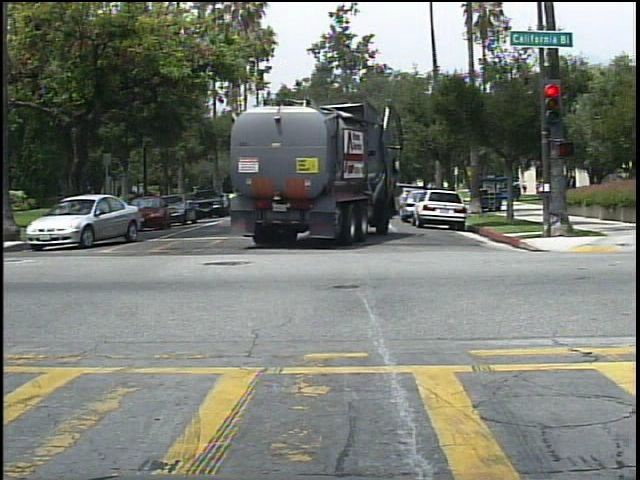person: (565, 169, 584, 200), (518, 177, 531, 197)
